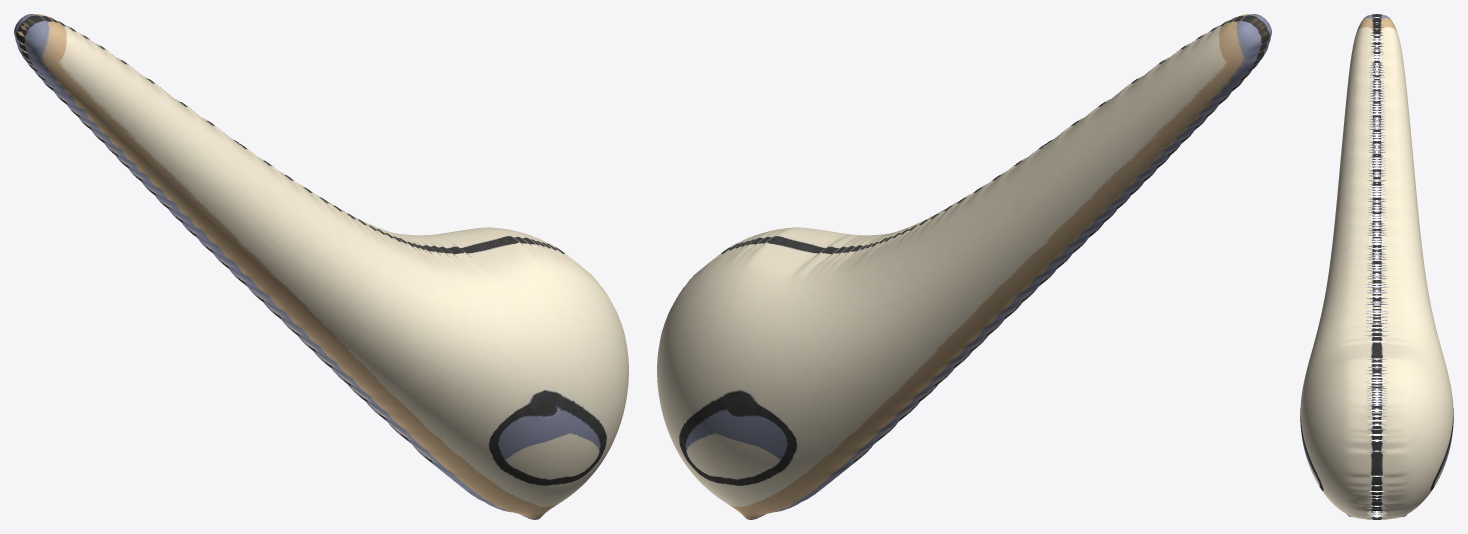
Rendered from brace_fin.glb.
3 views of the same model, side by side, from view 1: azimuth 30°, elevation 25°; view 2: azimuth 150°, elevation 25°; view 3: azimuth 270°, elevation 25° (orthographic). The views are drawn at different scales.
Visible parts, largest first — view 1: brace_fin; view 2: brace_fin; view 3: brace_fin.
Boxes of the visible parts, bbox=[...] form: brace_fin: bbox=[14, 14, 628, 519]; brace_fin: bbox=[657, 14, 1271, 519]; brace_fin: bbox=[1300, 14, 1453, 519].
Bounding box in the file's own units: 0.9889 × 0.9625 × 0.3711.
Materials: 1 (1 with a texture image).
